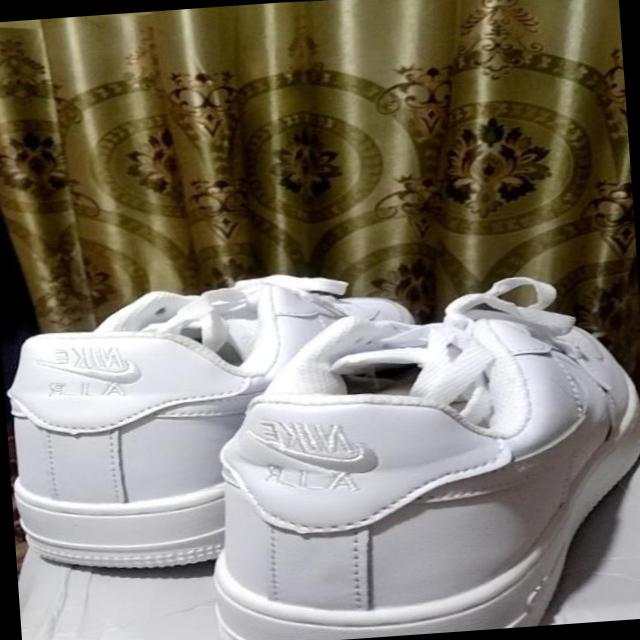nike_fake_airforce: (183, 277, 640, 640), (0, 260, 424, 585)
